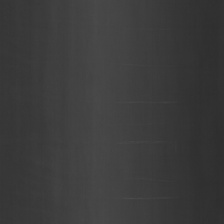waist_folding: (111, 23, 180, 212)
